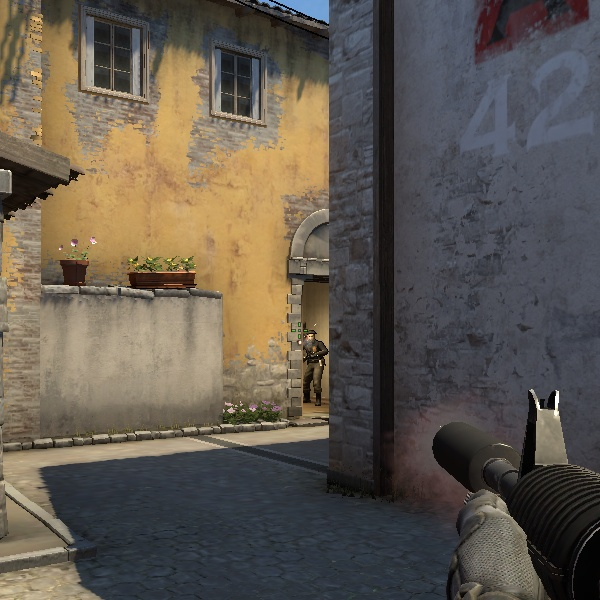ct_body: (294, 330, 327, 408)
